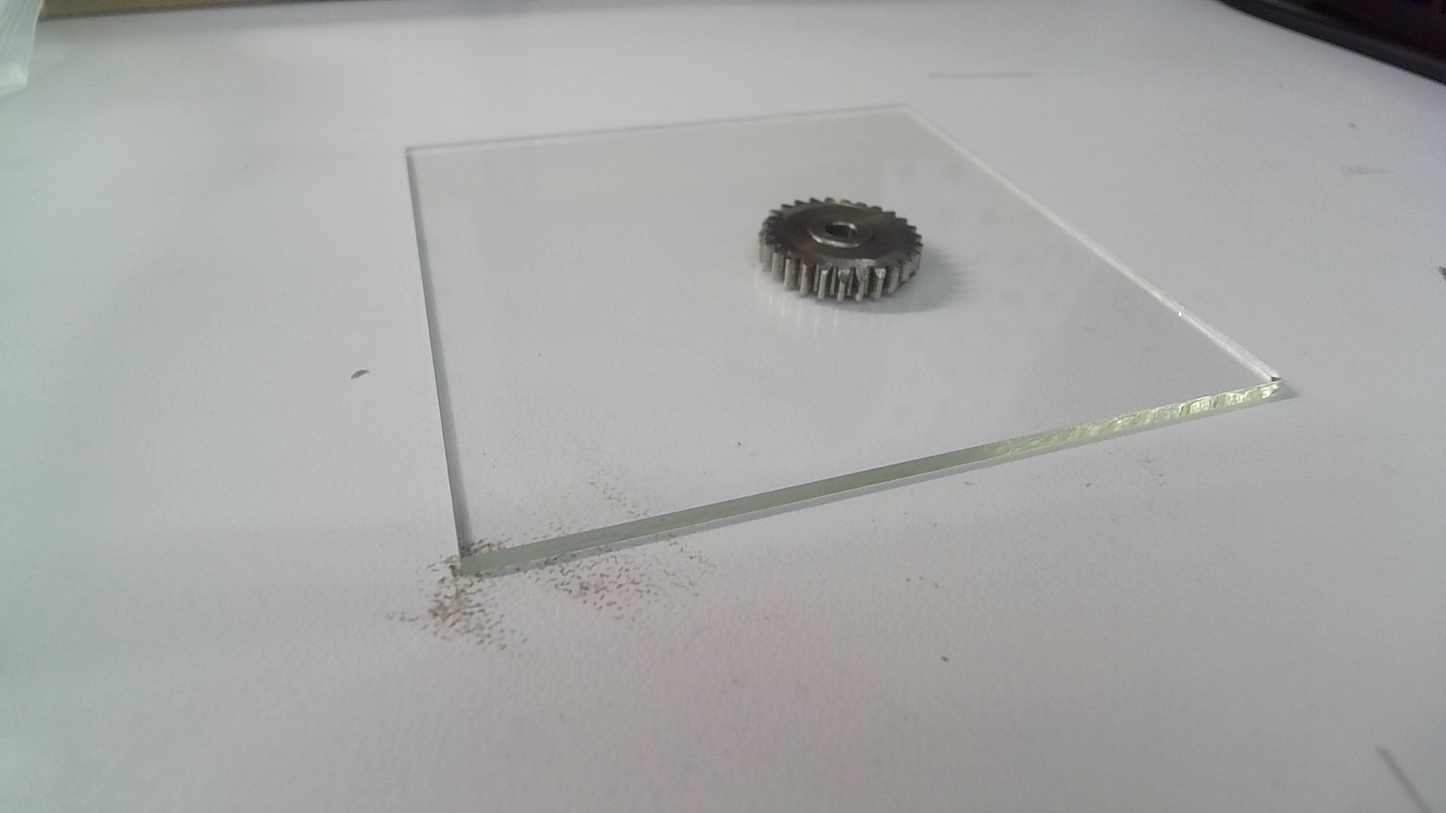gear: (754, 194, 929, 308)
